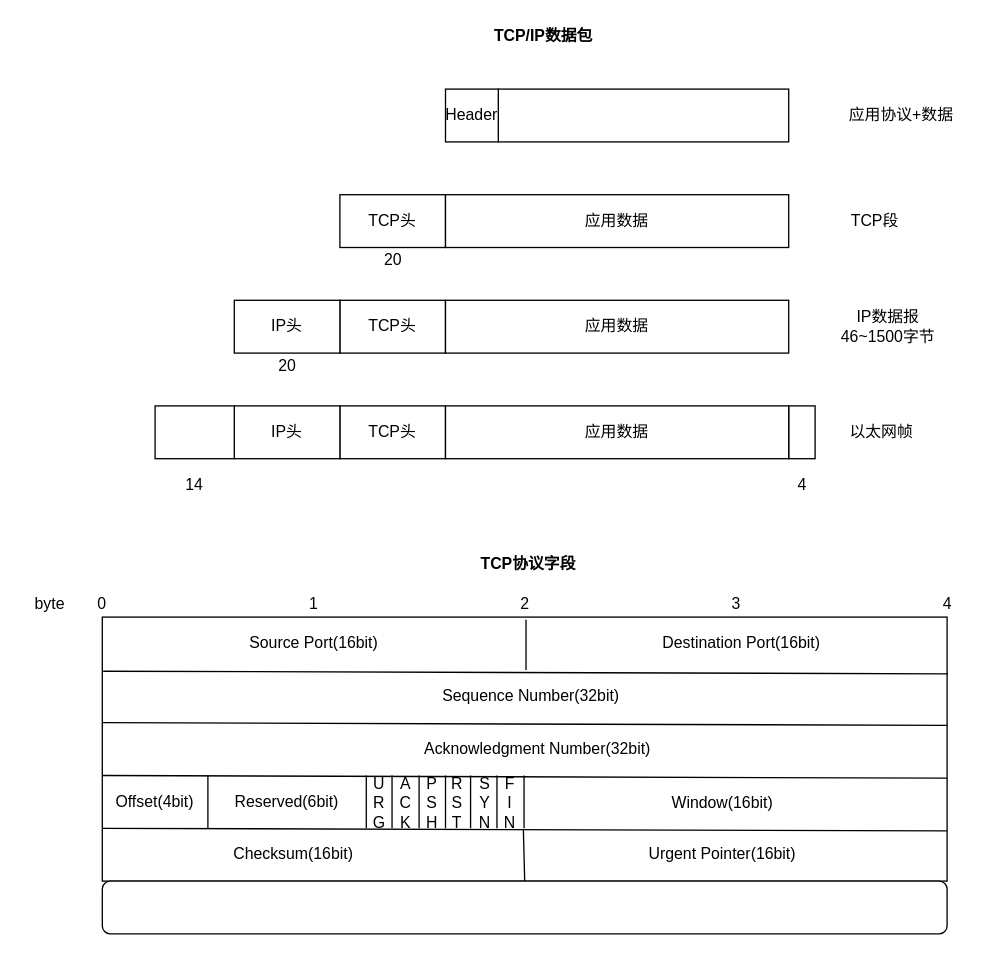
This 982x957 diagram has some shape labels left out. Here are the shapes that lost their labels. From the top down, the box of each, then its label:
(497, 88, 789, 142): UserData
(154, 405, 234, 459): 以太网头
(787, 405, 815, 459): 以太网 尾
(101, 880, 947, 934): TCP Options(可变长度)
